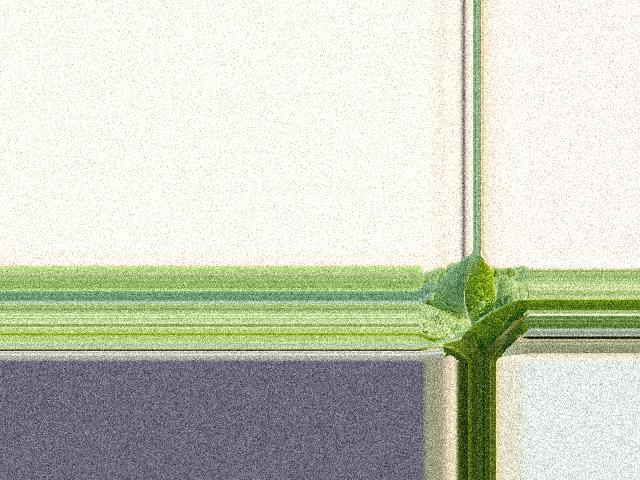lettuce: (429, 260, 527, 362)
